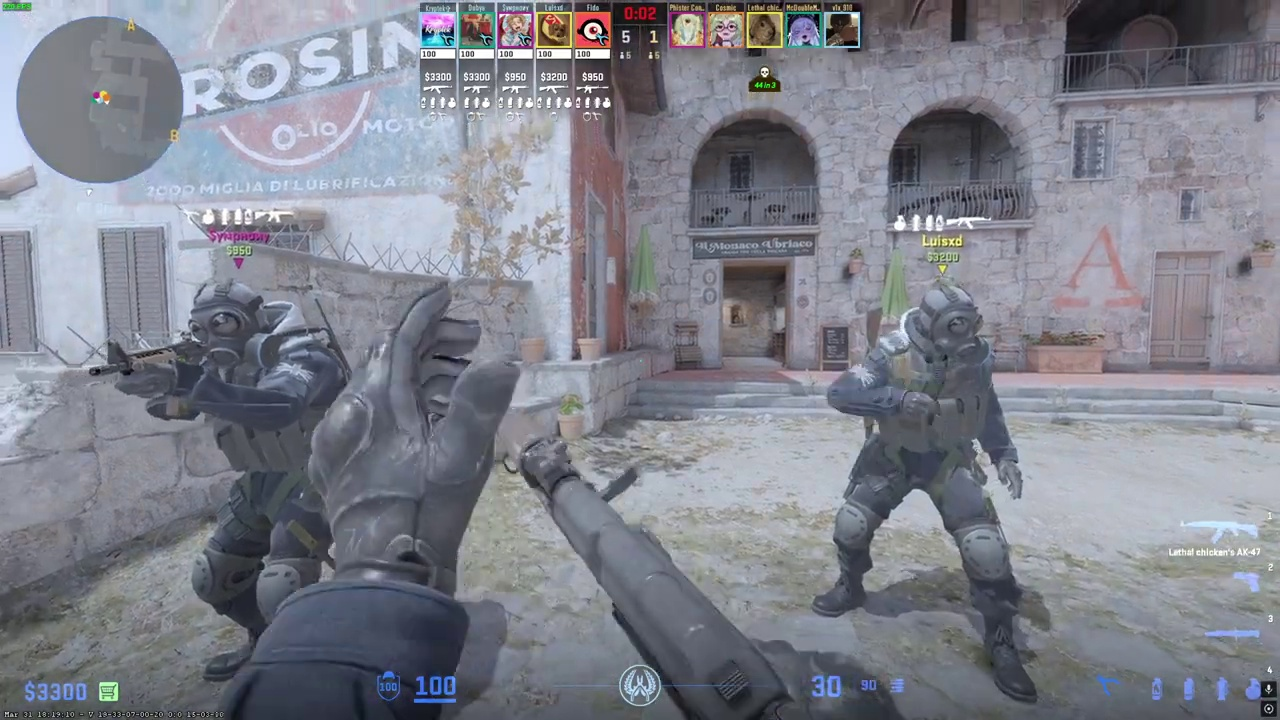CT: (813, 284, 1039, 701), (158, 278, 350, 664)
